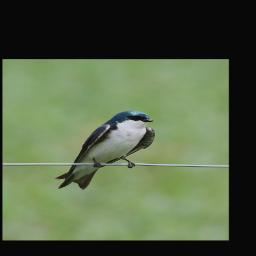Swallow: (54, 110, 156, 190)
